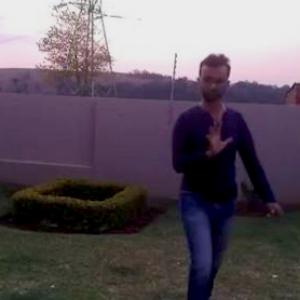follow_hand: (201, 116, 233, 154)
